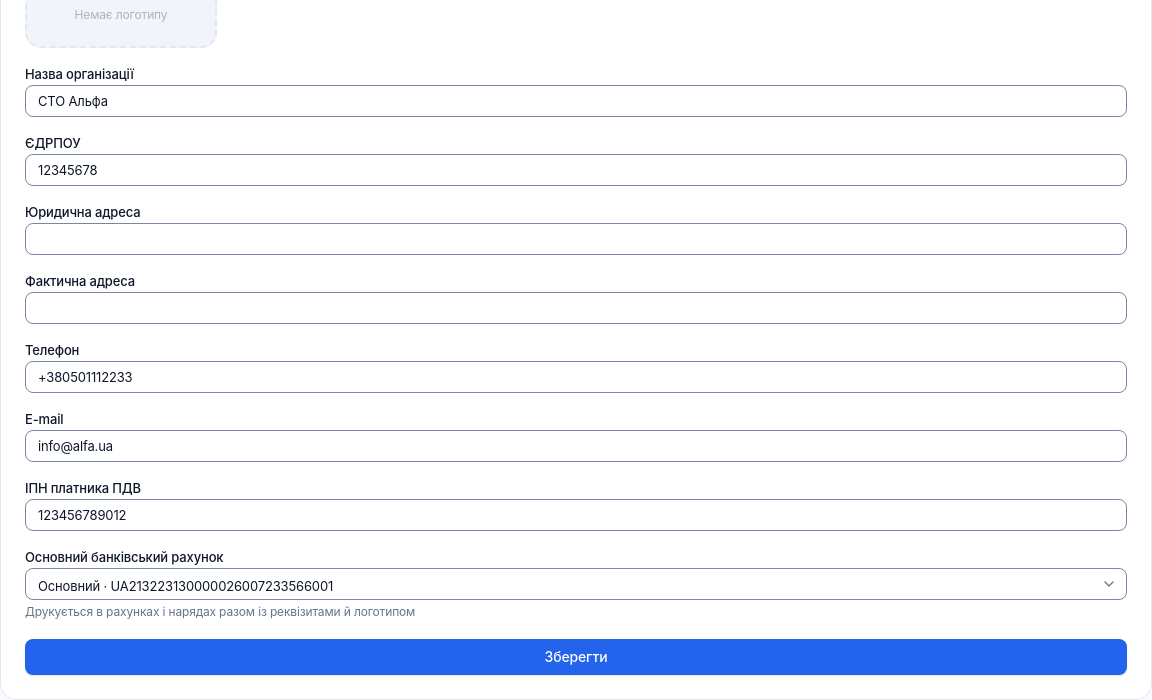
Test: OrgInfoTab — реквізити для друку › збій збереження — назву в шапці не перечитуємо
(page scrolled)
Expected: the field showing "+380501112233" is shown, [25, 360, 1127, 392]
What coordinates should you click on to do the following:
click the button "Зберегти"
I would click on:
 (576, 656)
Its box is [25, 638, 1127, 674].
(page scrolled)
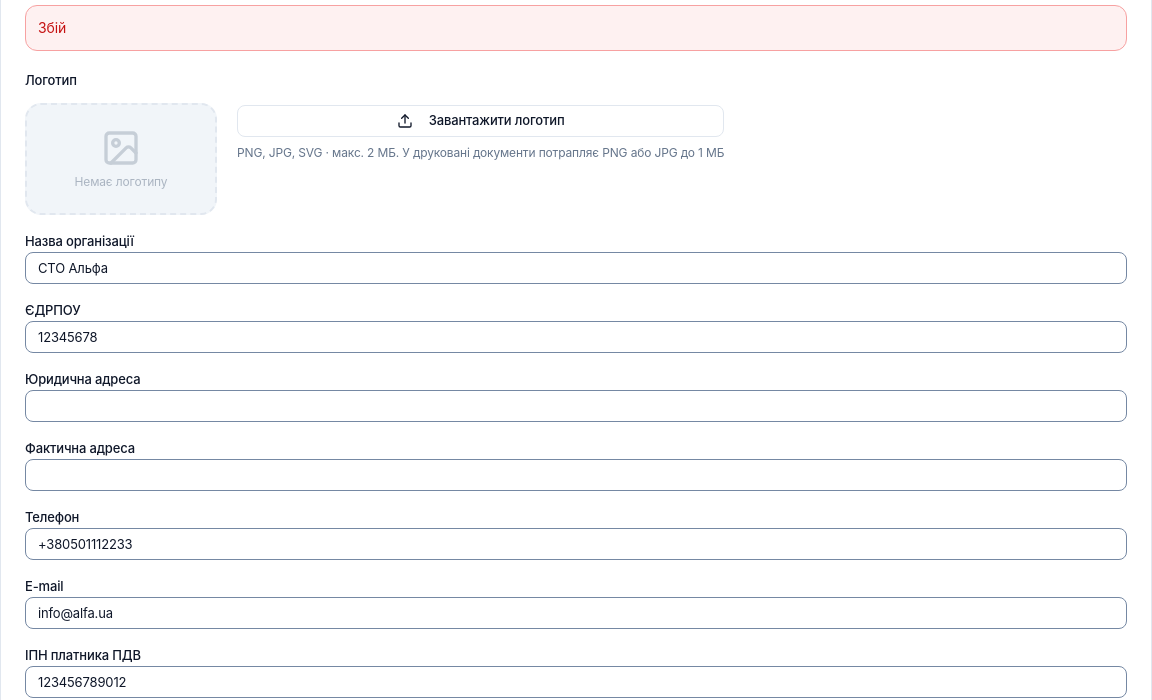
Now the text "Збій" is shown, box [25, 5, 1127, 51]
